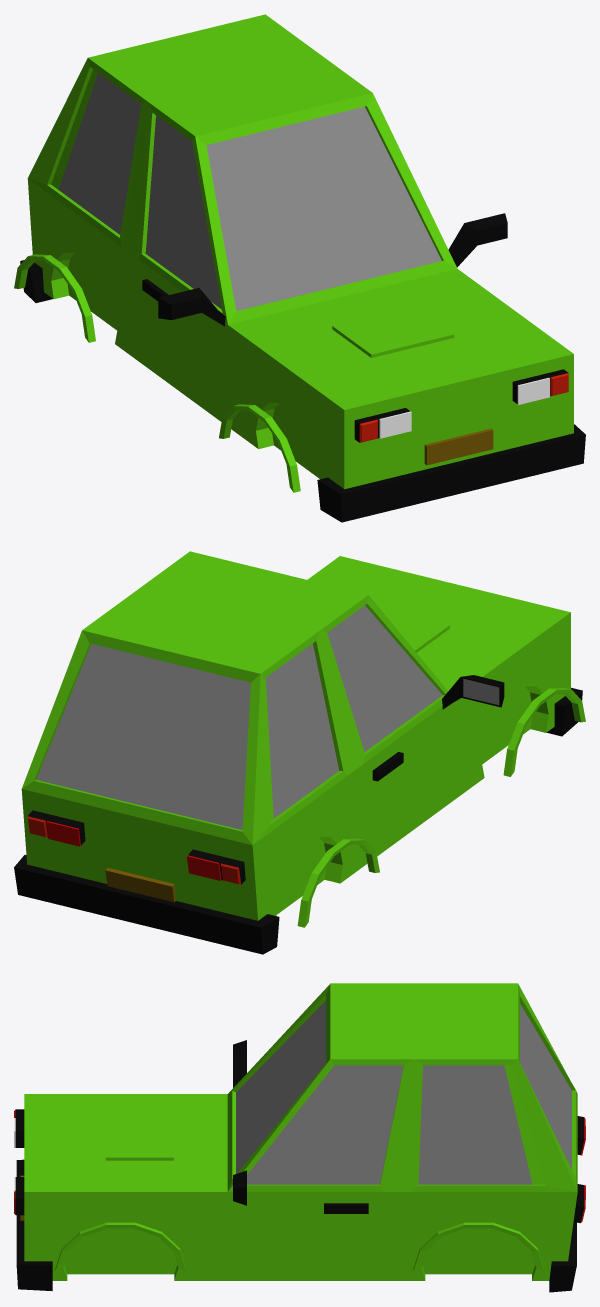
File: CarG.obj
3 views of the same model, one above another, from view 1: azimuth 30°, elevation 25°; view 2: azimuth 150°, elevation 25°; view 3: azimuth 270°, elevation 25° (orthographic). The views are drawn at different scales.
Visible parts, largest first — view 1: Car_Body, Back, Front; view 2: Car_Body, Front, Back; view 3: Car_Body, Front, Back.
Part boxes in pixels (x1,y1,x2,y2): Car_Body: (20, 14, 585, 522); Back: (14, 254, 95, 342); Front: (219, 404, 300, 492); Car_Body: (14, 551, 582, 954); Front: (503, 687, 585, 776); Back: (297, 838, 379, 927); Car_Body: (14, 983, 585, 1292); Front: (55, 1222, 186, 1271); Back: (413, 1222, 544, 1271).
Size of the model in its own units: 5.22 by 3.6 by 8.53.
